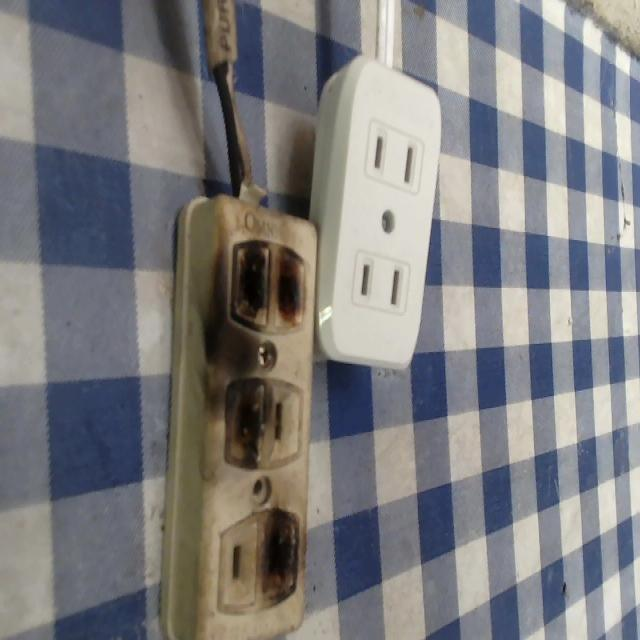-: (227, 231, 309, 341), (260, 500, 308, 605), (221, 377, 274, 471)
